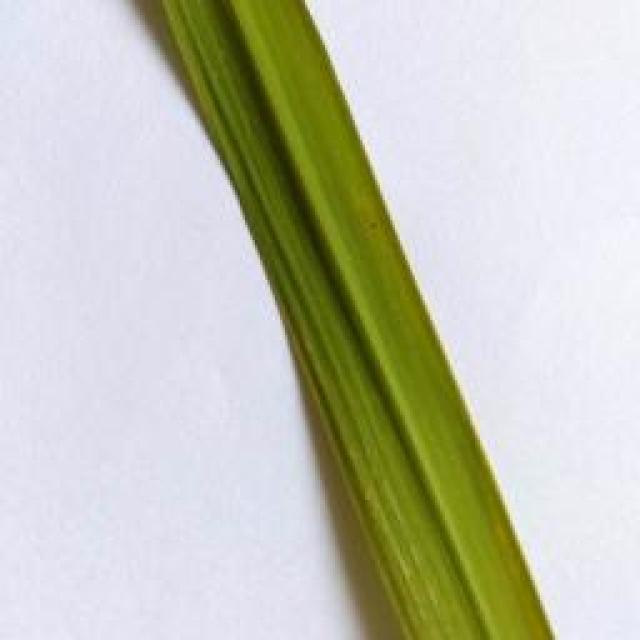Healthy-Plant: (162, 0, 543, 640)
